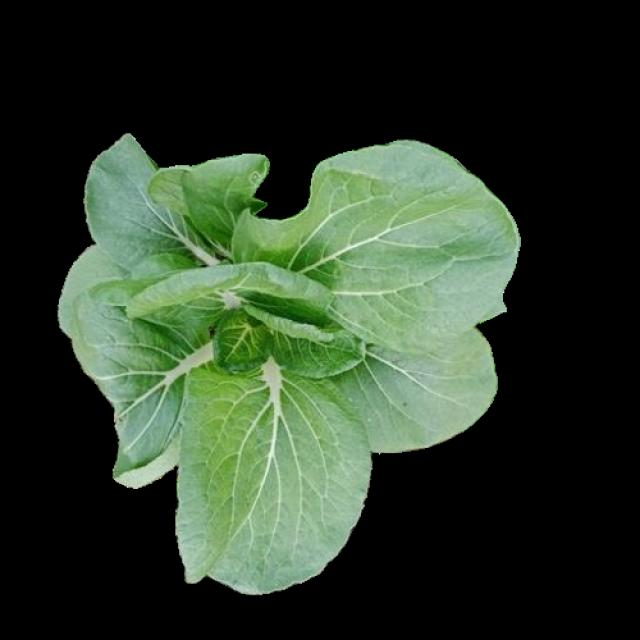healthy: (73, 144, 535, 606)
mature: (61, 132, 522, 592)
